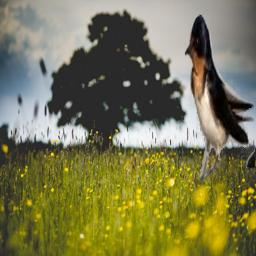Swallow: (184, 14, 255, 185)
